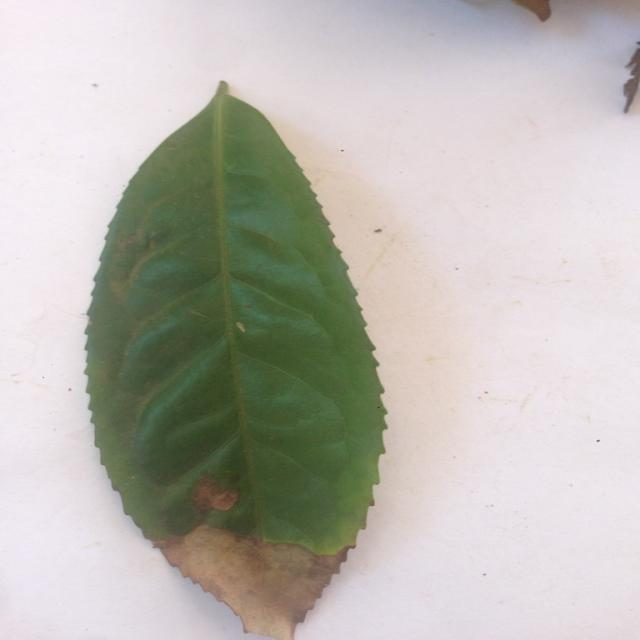Brown Blight: (78, 82, 400, 640)
